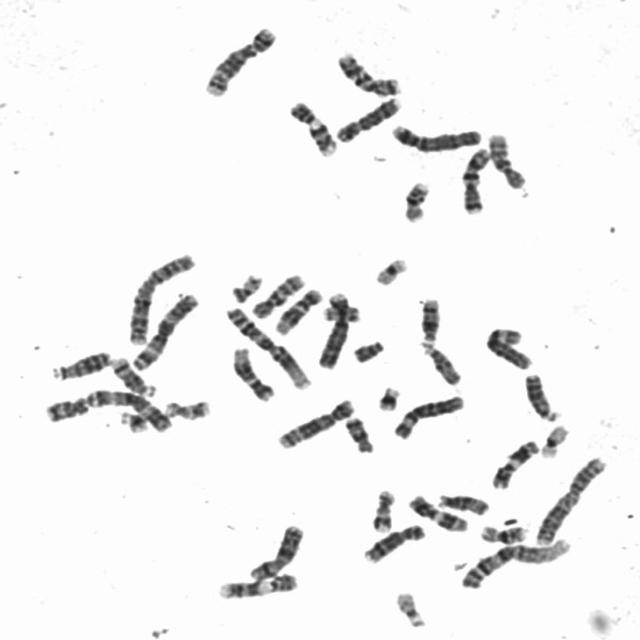A1: (222, 304, 313, 391), (456, 535, 574, 591)
A2: (530, 452, 610, 547), (125, 248, 199, 347)
A3: (127, 288, 201, 372), (84, 384, 176, 434)
B4: (387, 119, 483, 153), (314, 288, 352, 370)
B5: (201, 22, 279, 98), (274, 395, 358, 450)
C10: (246, 270, 307, 320), (483, 128, 529, 190)
C11: (487, 435, 542, 491), (404, 491, 471, 534)
C12: (270, 283, 324, 337), (228, 343, 277, 402)
C6: (389, 390, 466, 440), (481, 322, 536, 370)
C7: (332, 48, 403, 98), (458, 144, 494, 216)
C8: (332, 92, 404, 144), (359, 520, 428, 564)
C9: (286, 96, 339, 158), (214, 569, 302, 601)
D13: (48, 346, 114, 381), (520, 369, 563, 422)
D14: (107, 352, 159, 398), (416, 294, 442, 348)
D15: (418, 339, 464, 386), (434, 489, 492, 516)
E16: (400, 177, 432, 224), (476, 520, 530, 545)
E17: (368, 485, 397, 534), (160, 396, 213, 422)
E18: (41, 393, 90, 424), (341, 412, 376, 455)
F19: (536, 420, 572, 459), (371, 253, 410, 287)
F20: (227, 270, 265, 304), (318, 301, 362, 324)
G21: (116, 407, 151, 434), (374, 382, 404, 412)
G22: (391, 587, 430, 629)
X: (245, 520, 307, 582)
Y: (349, 336, 387, 364)
